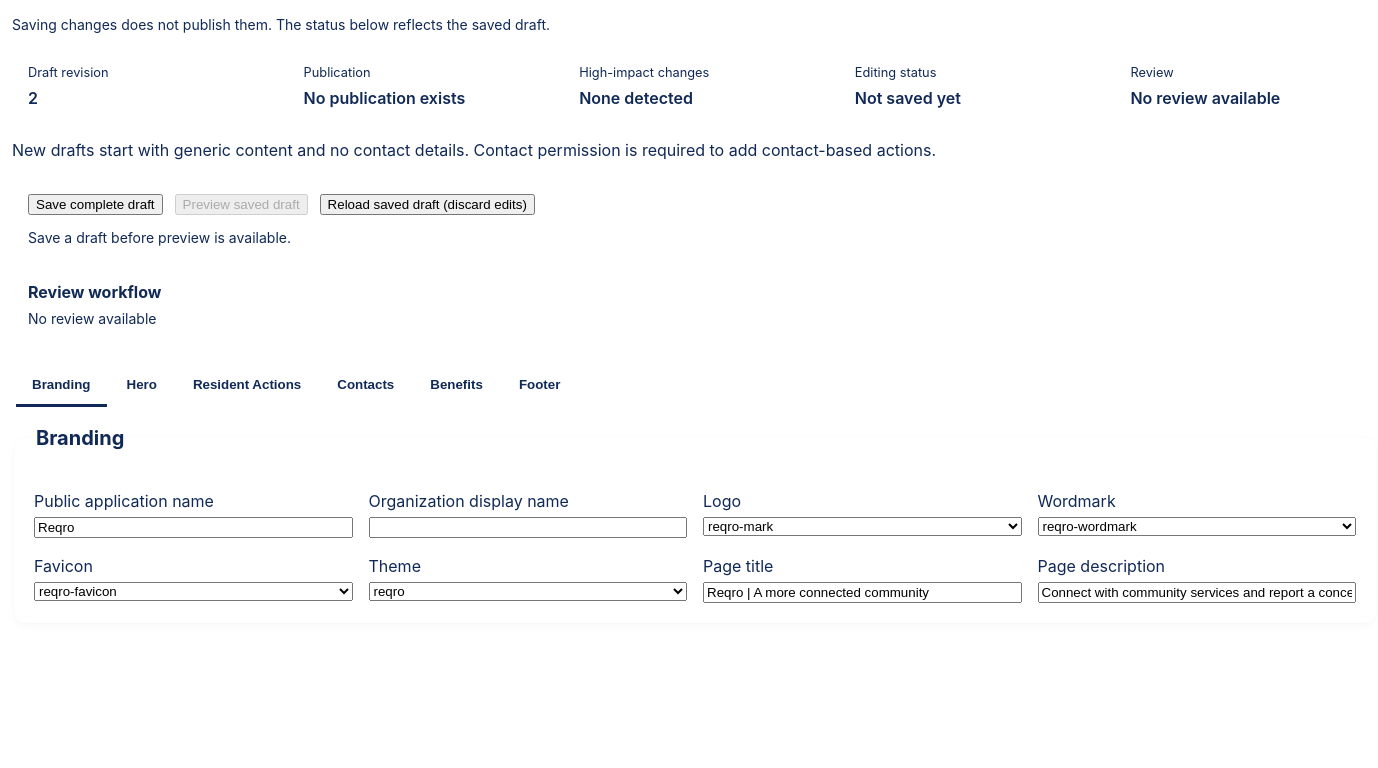
Scenario: new draft status explains unavailable preview and does not collapse validation errors
Expected: the text "Not saved yet" is shown, [855, 88, 961, 108]
Expected: the text "No publication exists" is shown, [304, 88, 465, 108]
Step 1. Clear the field labelled "Public application name" → (193, 528), box [34, 517, 352, 538]
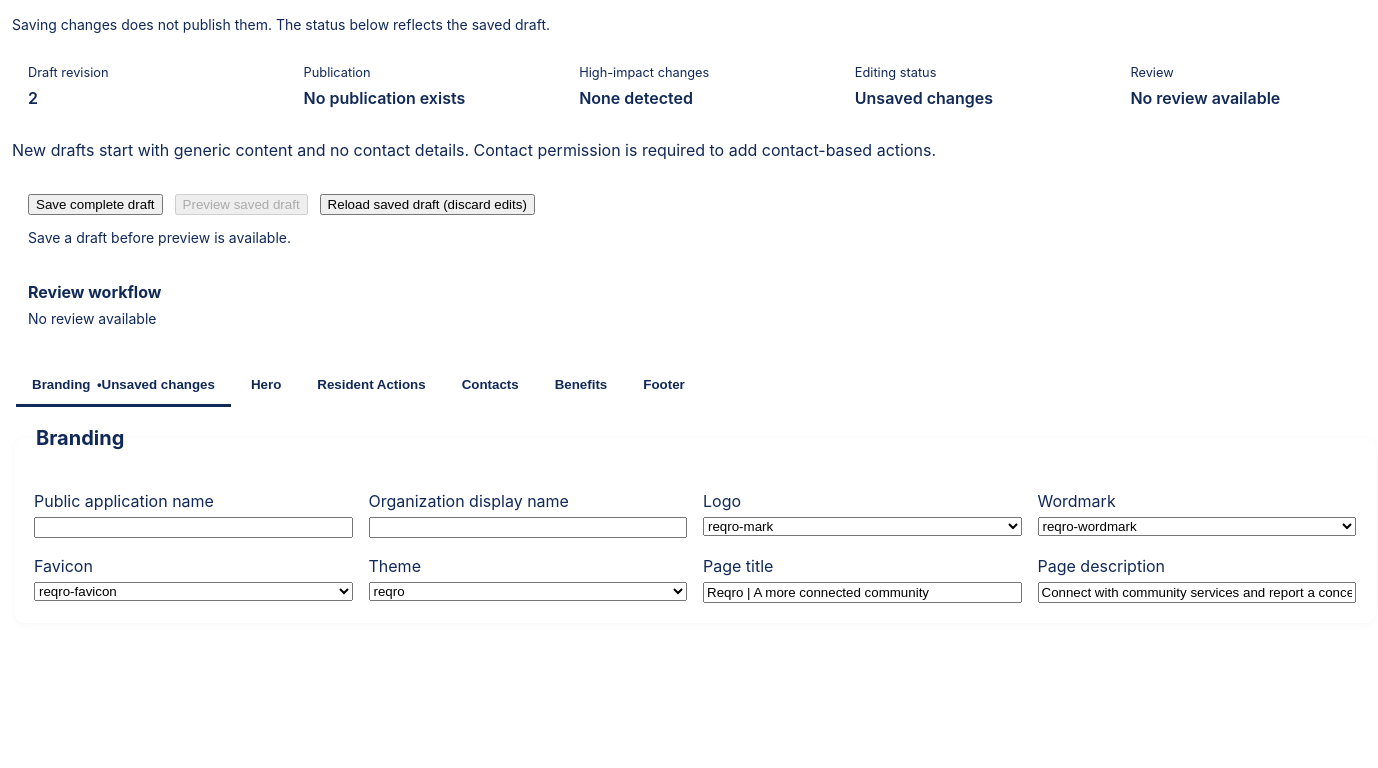
Step 2. Click the button "Save complete draft" → click(95, 205), box [28, 194, 162, 215]
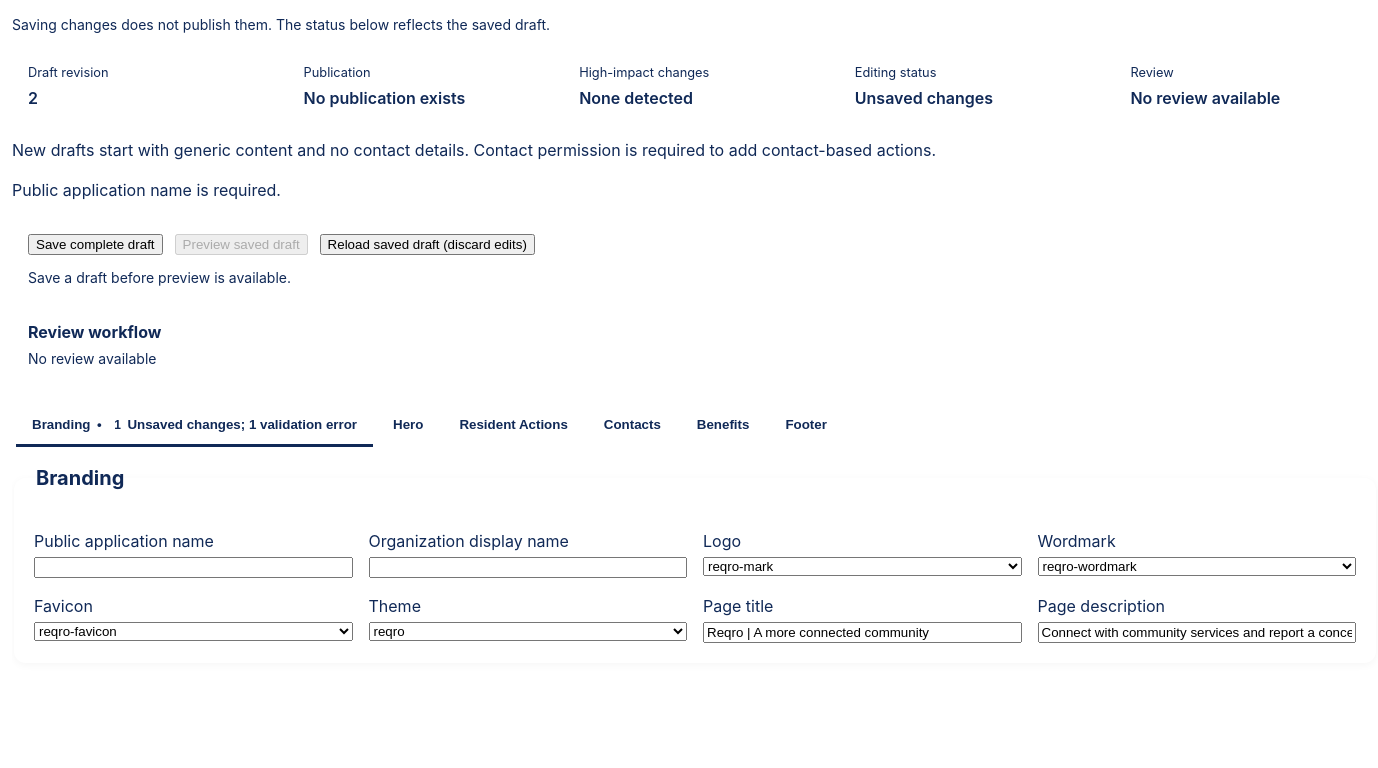
Expected: the panel "Branding" is shown, [14, 463, 1376, 663]
Expected: the text "Public application name is required." is shown, [12, 180, 281, 200]
Step 3. Click the tab "Contacts" → click(632, 426), box [588, 405, 677, 447]
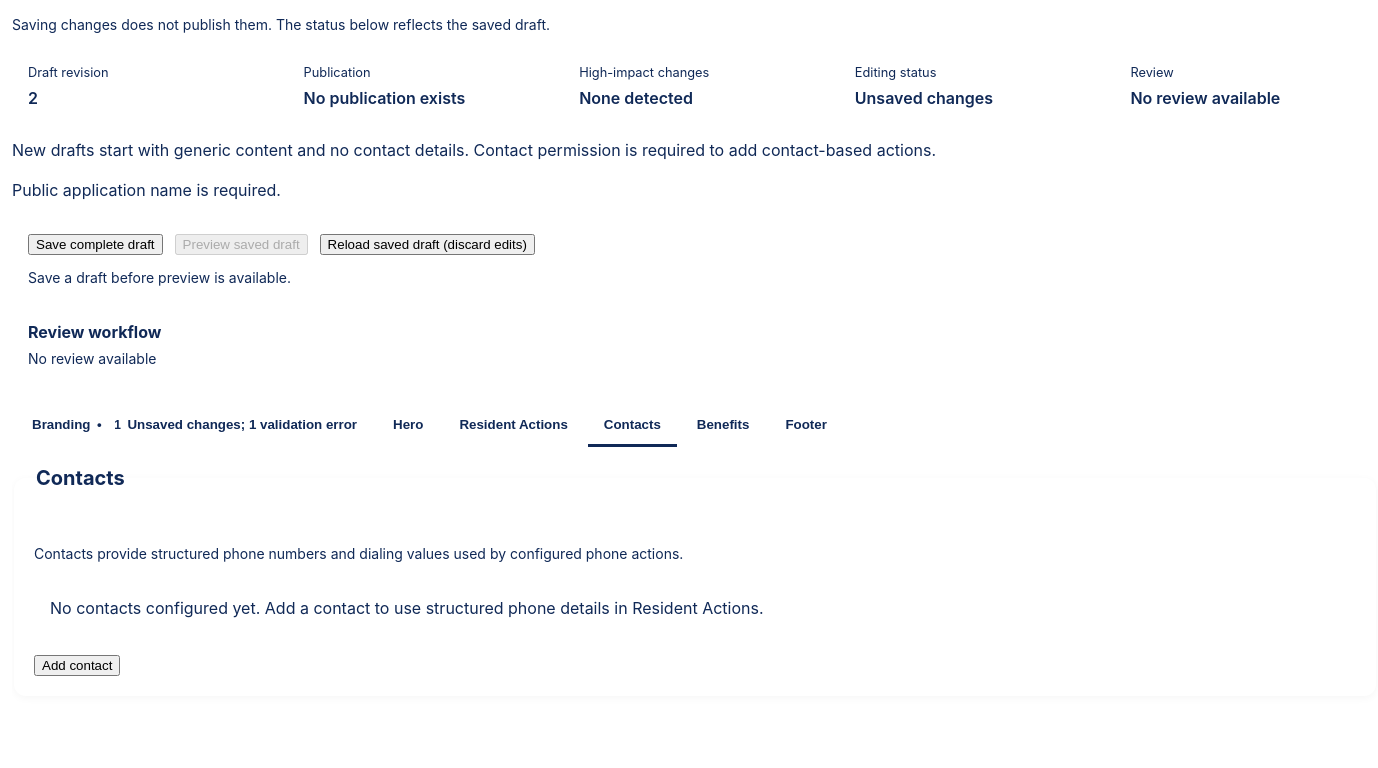
Expected: the text "No contacts configured yet" is shown, [50, 598, 764, 618]
Expected: the button "Add contact" is enabled, [34, 655, 120, 676]
